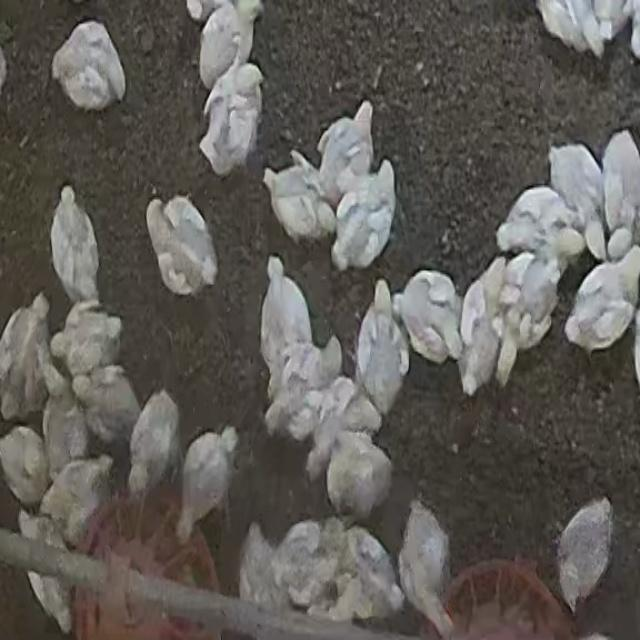chicken: (490, 248, 564, 373), (260, 332, 344, 438), (394, 496, 454, 639), (565, 248, 640, 357), (192, 67, 265, 177), (330, 157, 398, 275), (177, 423, 242, 545), (16, 503, 76, 635), (258, 253, 316, 389), (354, 280, 408, 422), (306, 380, 384, 478), (38, 455, 118, 549), (146, 195, 218, 299), (457, 263, 511, 398), (127, 389, 183, 518), (546, 143, 606, 263), (0, 292, 55, 422), (555, 494, 614, 614), (496, 186, 582, 268), (394, 268, 464, 368), (323, 431, 395, 527), (313, 101, 376, 209), (50, 187, 109, 301), (52, 19, 124, 110), (52, 299, 126, 387), (264, 154, 333, 246), (191, 2, 264, 87), (268, 517, 339, 600), (538, 1, 634, 60), (334, 530, 405, 608), (601, 129, 640, 261), (74, 370, 143, 440), (238, 520, 286, 618), (43, 384, 90, 480), (0, 425, 50, 511)
